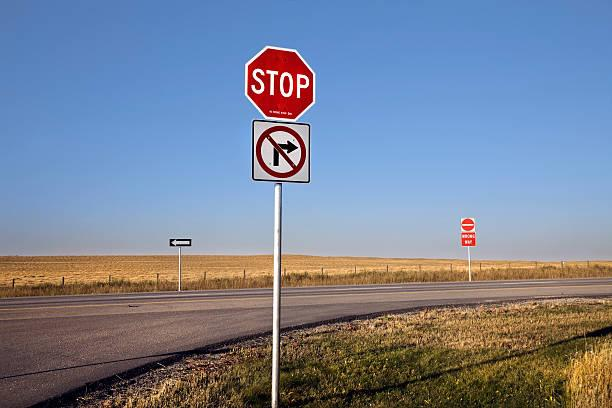Pole: (273, 183, 281, 408)
Sign: (245, 44, 316, 122)
